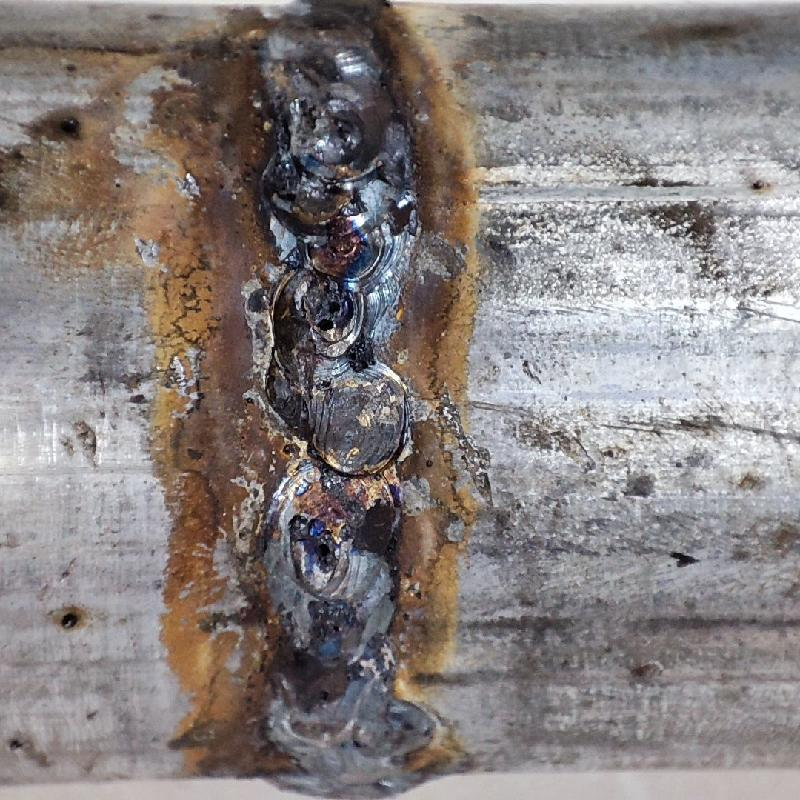Surface_pores: (303, 292, 363, 340)
crater: (263, 14, 414, 602)
wrong_size: (279, 608, 417, 784)
